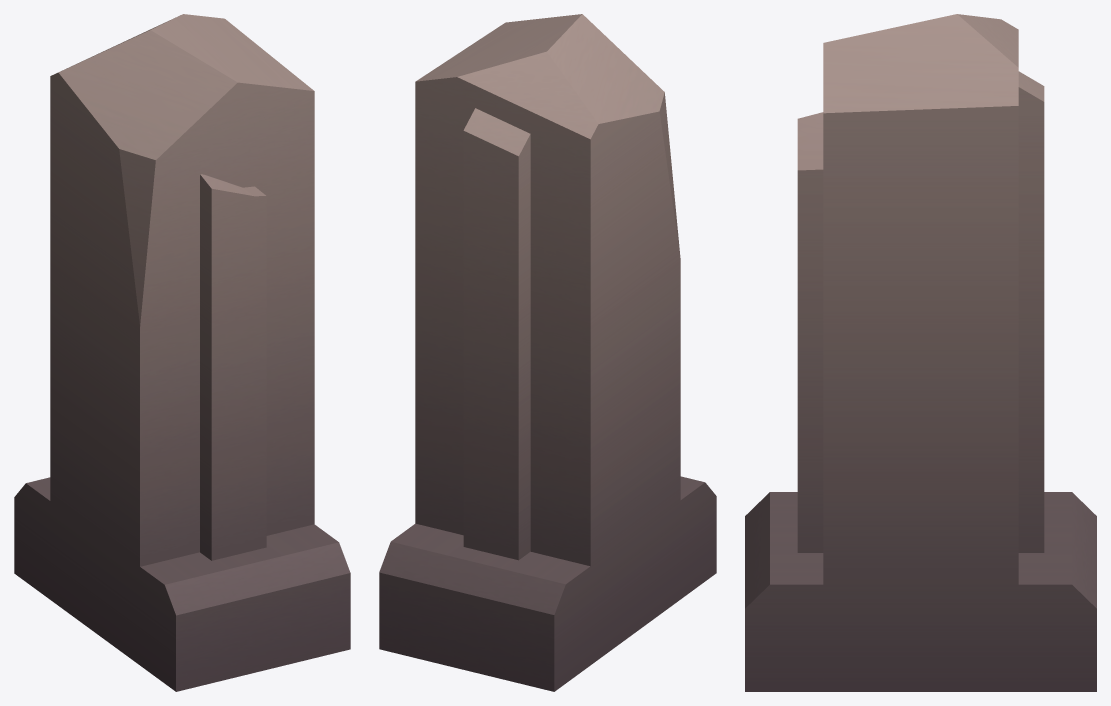
File: fenceAPillar6.glb
3 views of the same model, side by side, from view 1: azimuth 30°, elevation 25°; view 2: azimuth 150°, elevation 25°; view 3: azimuth 270°, elevation 25° (orthographic). The views are drawn at different scales.
Parts seen in each view (by area): view 1: fenceAPillar6; view 2: fenceAPillar6; view 3: fenceAPillar6.
Part boxes in pixels (left/top/right/bottom): fenceAPillar6: left=14, top=14, right=350, bottom=691; fenceAPillar6: left=379, top=14, right=716, bottom=691; fenceAPillar6: left=745, top=14, right=1096, bottom=691.
Bounding box in the file's own units: 0.5077 × 1.59 × 0.8154.
1 material, 1 textured.
